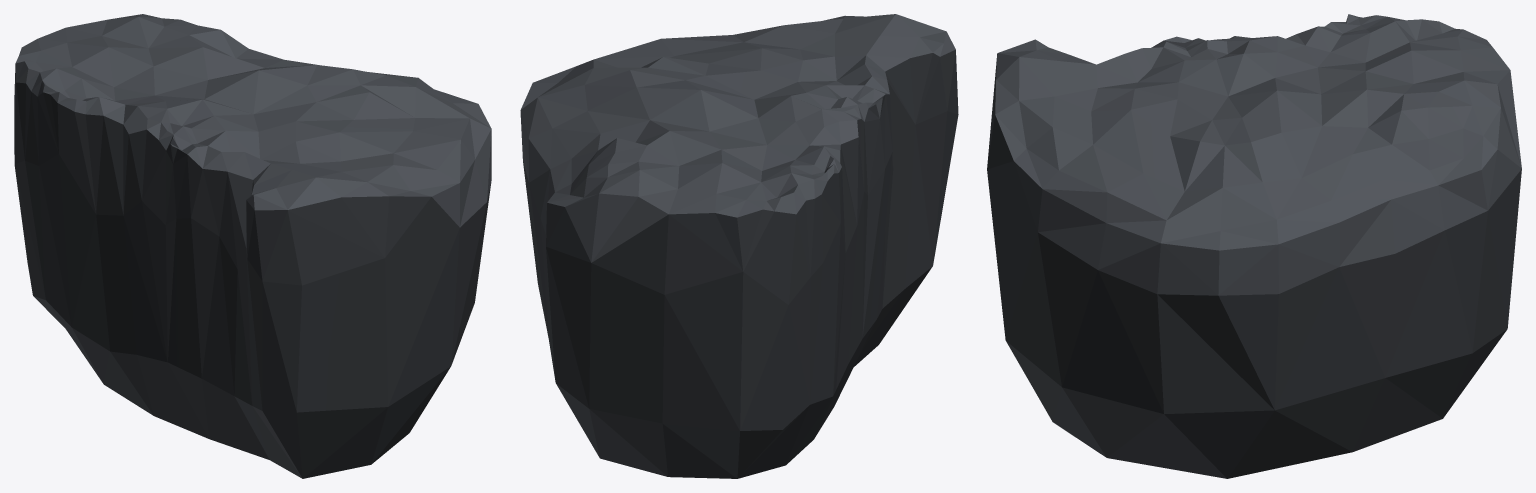
The model's file is isle_cliff_a.gltf.
3 renders of one model, left to right at view 1: azimuth 30°, elevation 25°; view 2: azimuth 150°, elevation 25°; view 3: azimuth 270°, elevation 25°, orthographic. The views are drawn at different scales.
Parts seen in each view (by area): view 1: isle_cliff_a; view 2: isle_cliff_a; view 3: isle_cliff_a.
Part boxes in pixels (<box>): isle_cliff_a: <box>14,14,491,478</box>; isle_cliff_a: <box>520,14,958,478</box>; isle_cliff_a: <box>987,14,1521,478</box>.
Bounding box in the file's own units: 26.83 × 23.51 × 32.96.
Materials: 1 (1 with a texture image).
